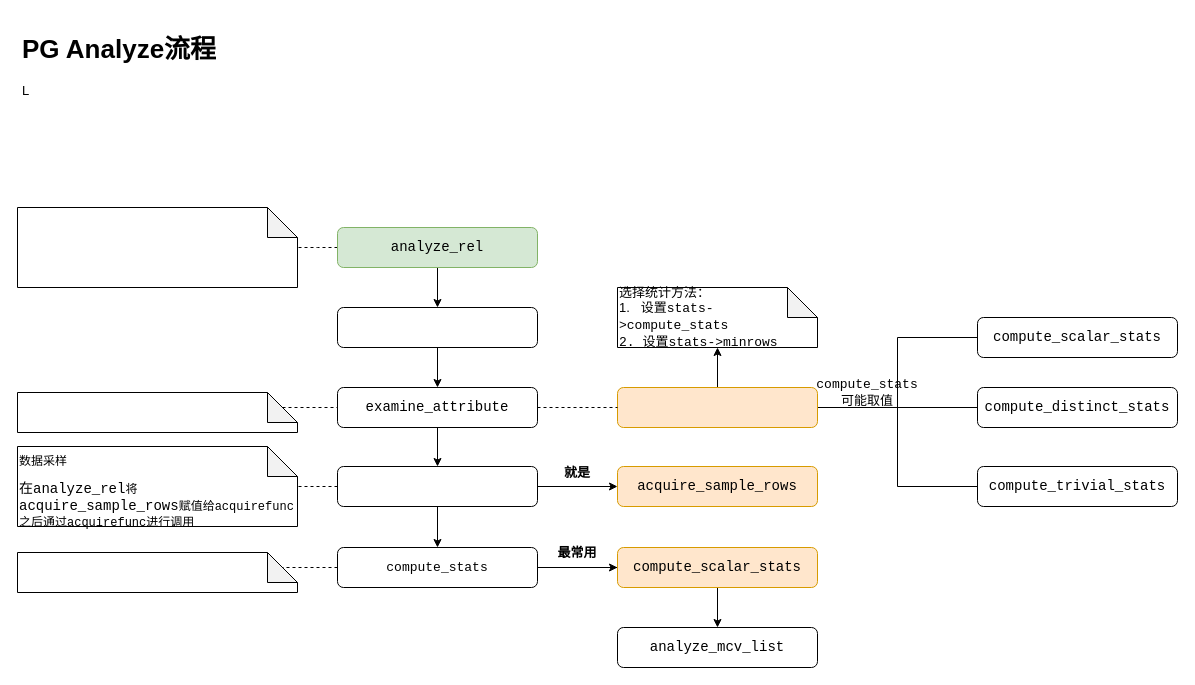
The diagram is 1195 pixels wide and 685 high, and some of its shapes have lost their labels. The shapes that lost their labels are listed below. From the top down, each one's centre as x and y in pixels, then its label:
At point 157,247: "设置 acquirefunc= acquire_sample_rows".
At point 437,327: "do_analyze_rel".
At point 157,412: "attr->attstattarget=0不统计".
At point 717,407: "std_typanalyze".
At point 437,486: "acquirefunc".
At point 157,572: "数据统计， 最常用的是compute_scalar_stats".
